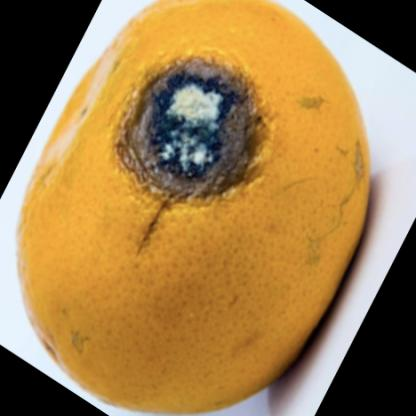rotten: (18, 1, 371, 416)
